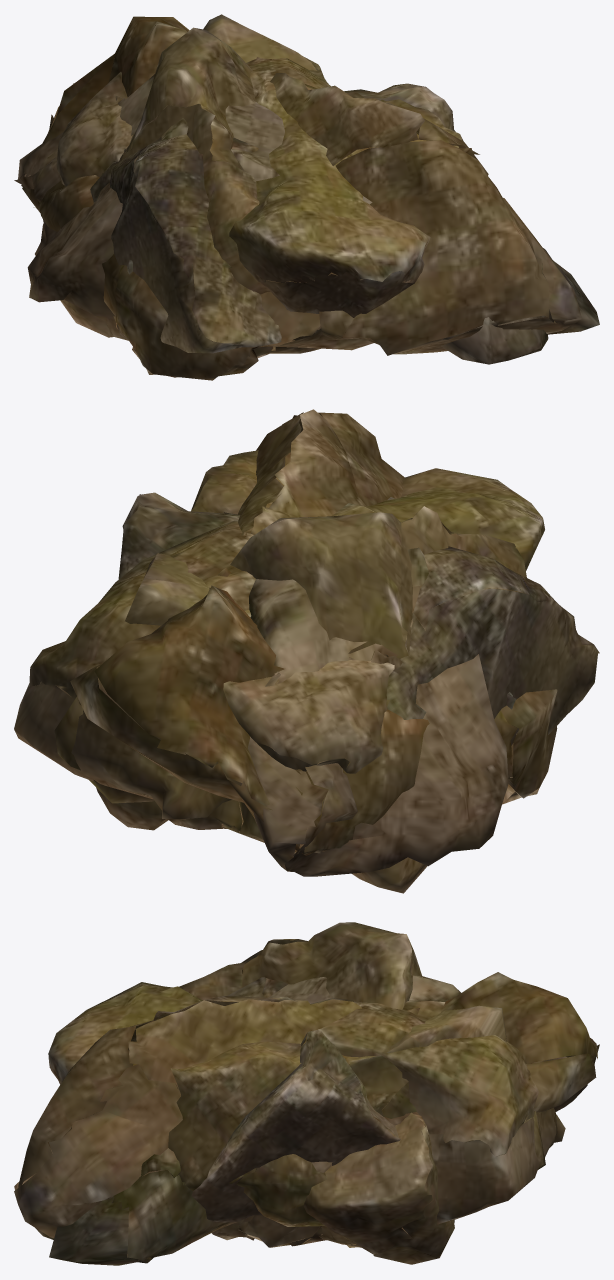
File: pedras-musgo.glb
3 views of the same model, one above another, from view 1: azimuth 30°, elevation 25°; view 2: azimuth 150°, elevation 25°; view 3: azimuth 270°, elevation 25° (orthographic). The views are drawn at different scales.
Visible parts, largest first — view 1: rock_moss_set_01_rock01, rock_moss_set_01_rock05, rock_moss_set_01_rock03, rock_moss_set_01_rock02, rock_moss_set_01_rock04, rock_moss_set_01_rock06; view 2: rock_moss_set_01_rock01, rock_moss_set_01_rock05, rock_moss_set_01_rock02, rock_moss_set_01_rock03, rock_moss_set_01_rock04, rock_moss_set_01_rock06; view 3: rock_moss_set_01_rock01, rock_moss_set_01_rock05, rock_moss_set_01_rock04, rock_moss_set_01_rock06, rock_moss_set_01_rock03, rock_moss_set_01_rock02.
Boxes of the visible parts, x1=… form: rock_moss_set_01_rock01: x1=22, y1=16, x2=581, y2=380; rock_moss_set_01_rock05: x1=56, y1=56, x2=430, y2=329; rock_moss_set_01_rock03: x1=90, y1=83, x2=455, y2=353; rock_moss_set_01_rock02: x1=14, y1=74, x2=599, y2=364; rock_moss_set_01_rock04: x1=60, y1=27, x2=320, y2=357; rock_moss_set_01_rock06: x1=127, y1=14, x2=463, y2=340; rock_moss_set_01_rock01: x1=70, y1=409, x2=557, y2=855; rock_moss_set_01_rock05: x1=14, y1=468, x2=544, y2=819; rock_moss_set_01_rock02: x1=240, y1=497, x2=508, y2=876; rock_moss_set_01_rock03: x1=118, y1=492, x2=599, y2=745; rock_moss_set_01_rock04: x1=96, y1=506, x2=528, y2=893; rock_moss_set_01_rock06: x1=54, y1=450, x2=517, y2=803; rock_moss_set_01_rock01: x1=14, y1=972, x2=599, y2=1247; rock_moss_set_01_rock05: x1=48, y1=982, x2=565, y2=1224; rock_moss_set_01_rock04: x1=179, y1=922, x2=454, y2=1264; rock_moss_set_01_rock06: x1=93, y1=1005, x2=545, y2=1226; rock_moss_set_01_rock03: x1=191, y1=950, x2=400, y2=1222; rock_moss_set_01_rock02: x1=35, y1=974, x2=587, y2=1265.
Size of the model in its own units: 2.65 by 1.76 by 3.39.
1 material, 1 textured.
